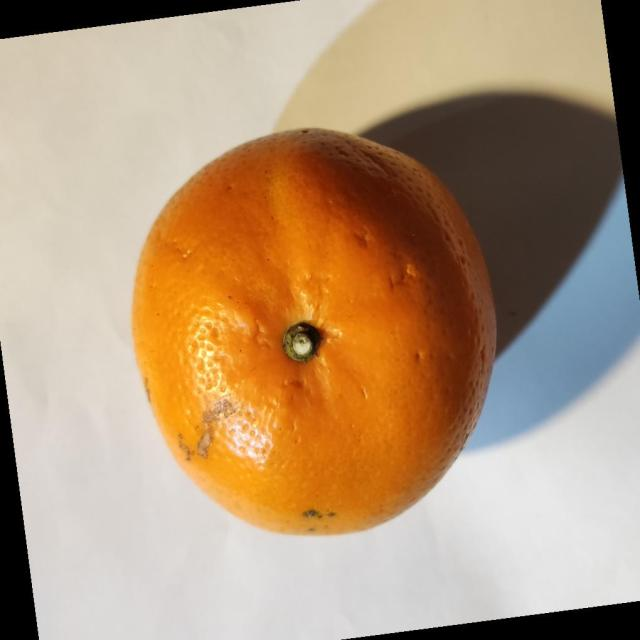fresh orange: (130, 126, 497, 536)
